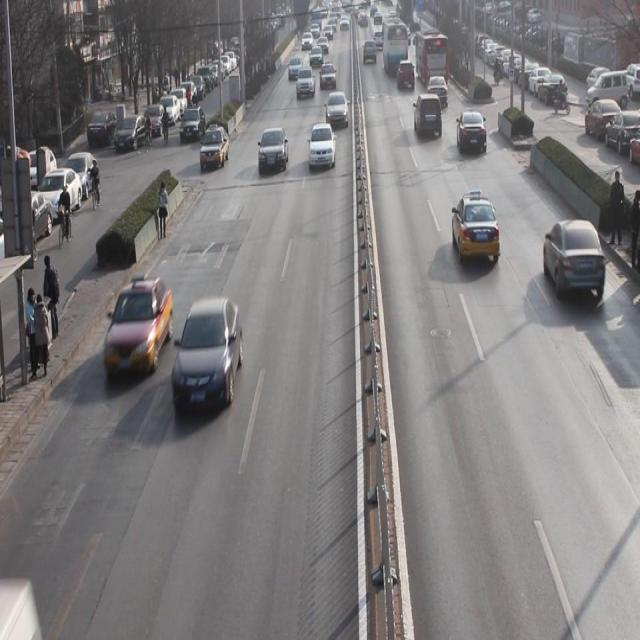car: (173, 302, 244, 416), (104, 285, 174, 378), (542, 218, 608, 302), (450, 191, 501, 266), (412, 93, 444, 140), (200, 122, 230, 172), (258, 127, 288, 175), (309, 123, 337, 170), (456, 111, 487, 153), (325, 90, 350, 130), (426, 73, 449, 108), (297, 67, 315, 100), (397, 58, 414, 91), (318, 61, 337, 90), (362, 38, 377, 66), (287, 56, 302, 81)
van: (414, 31, 448, 88)
